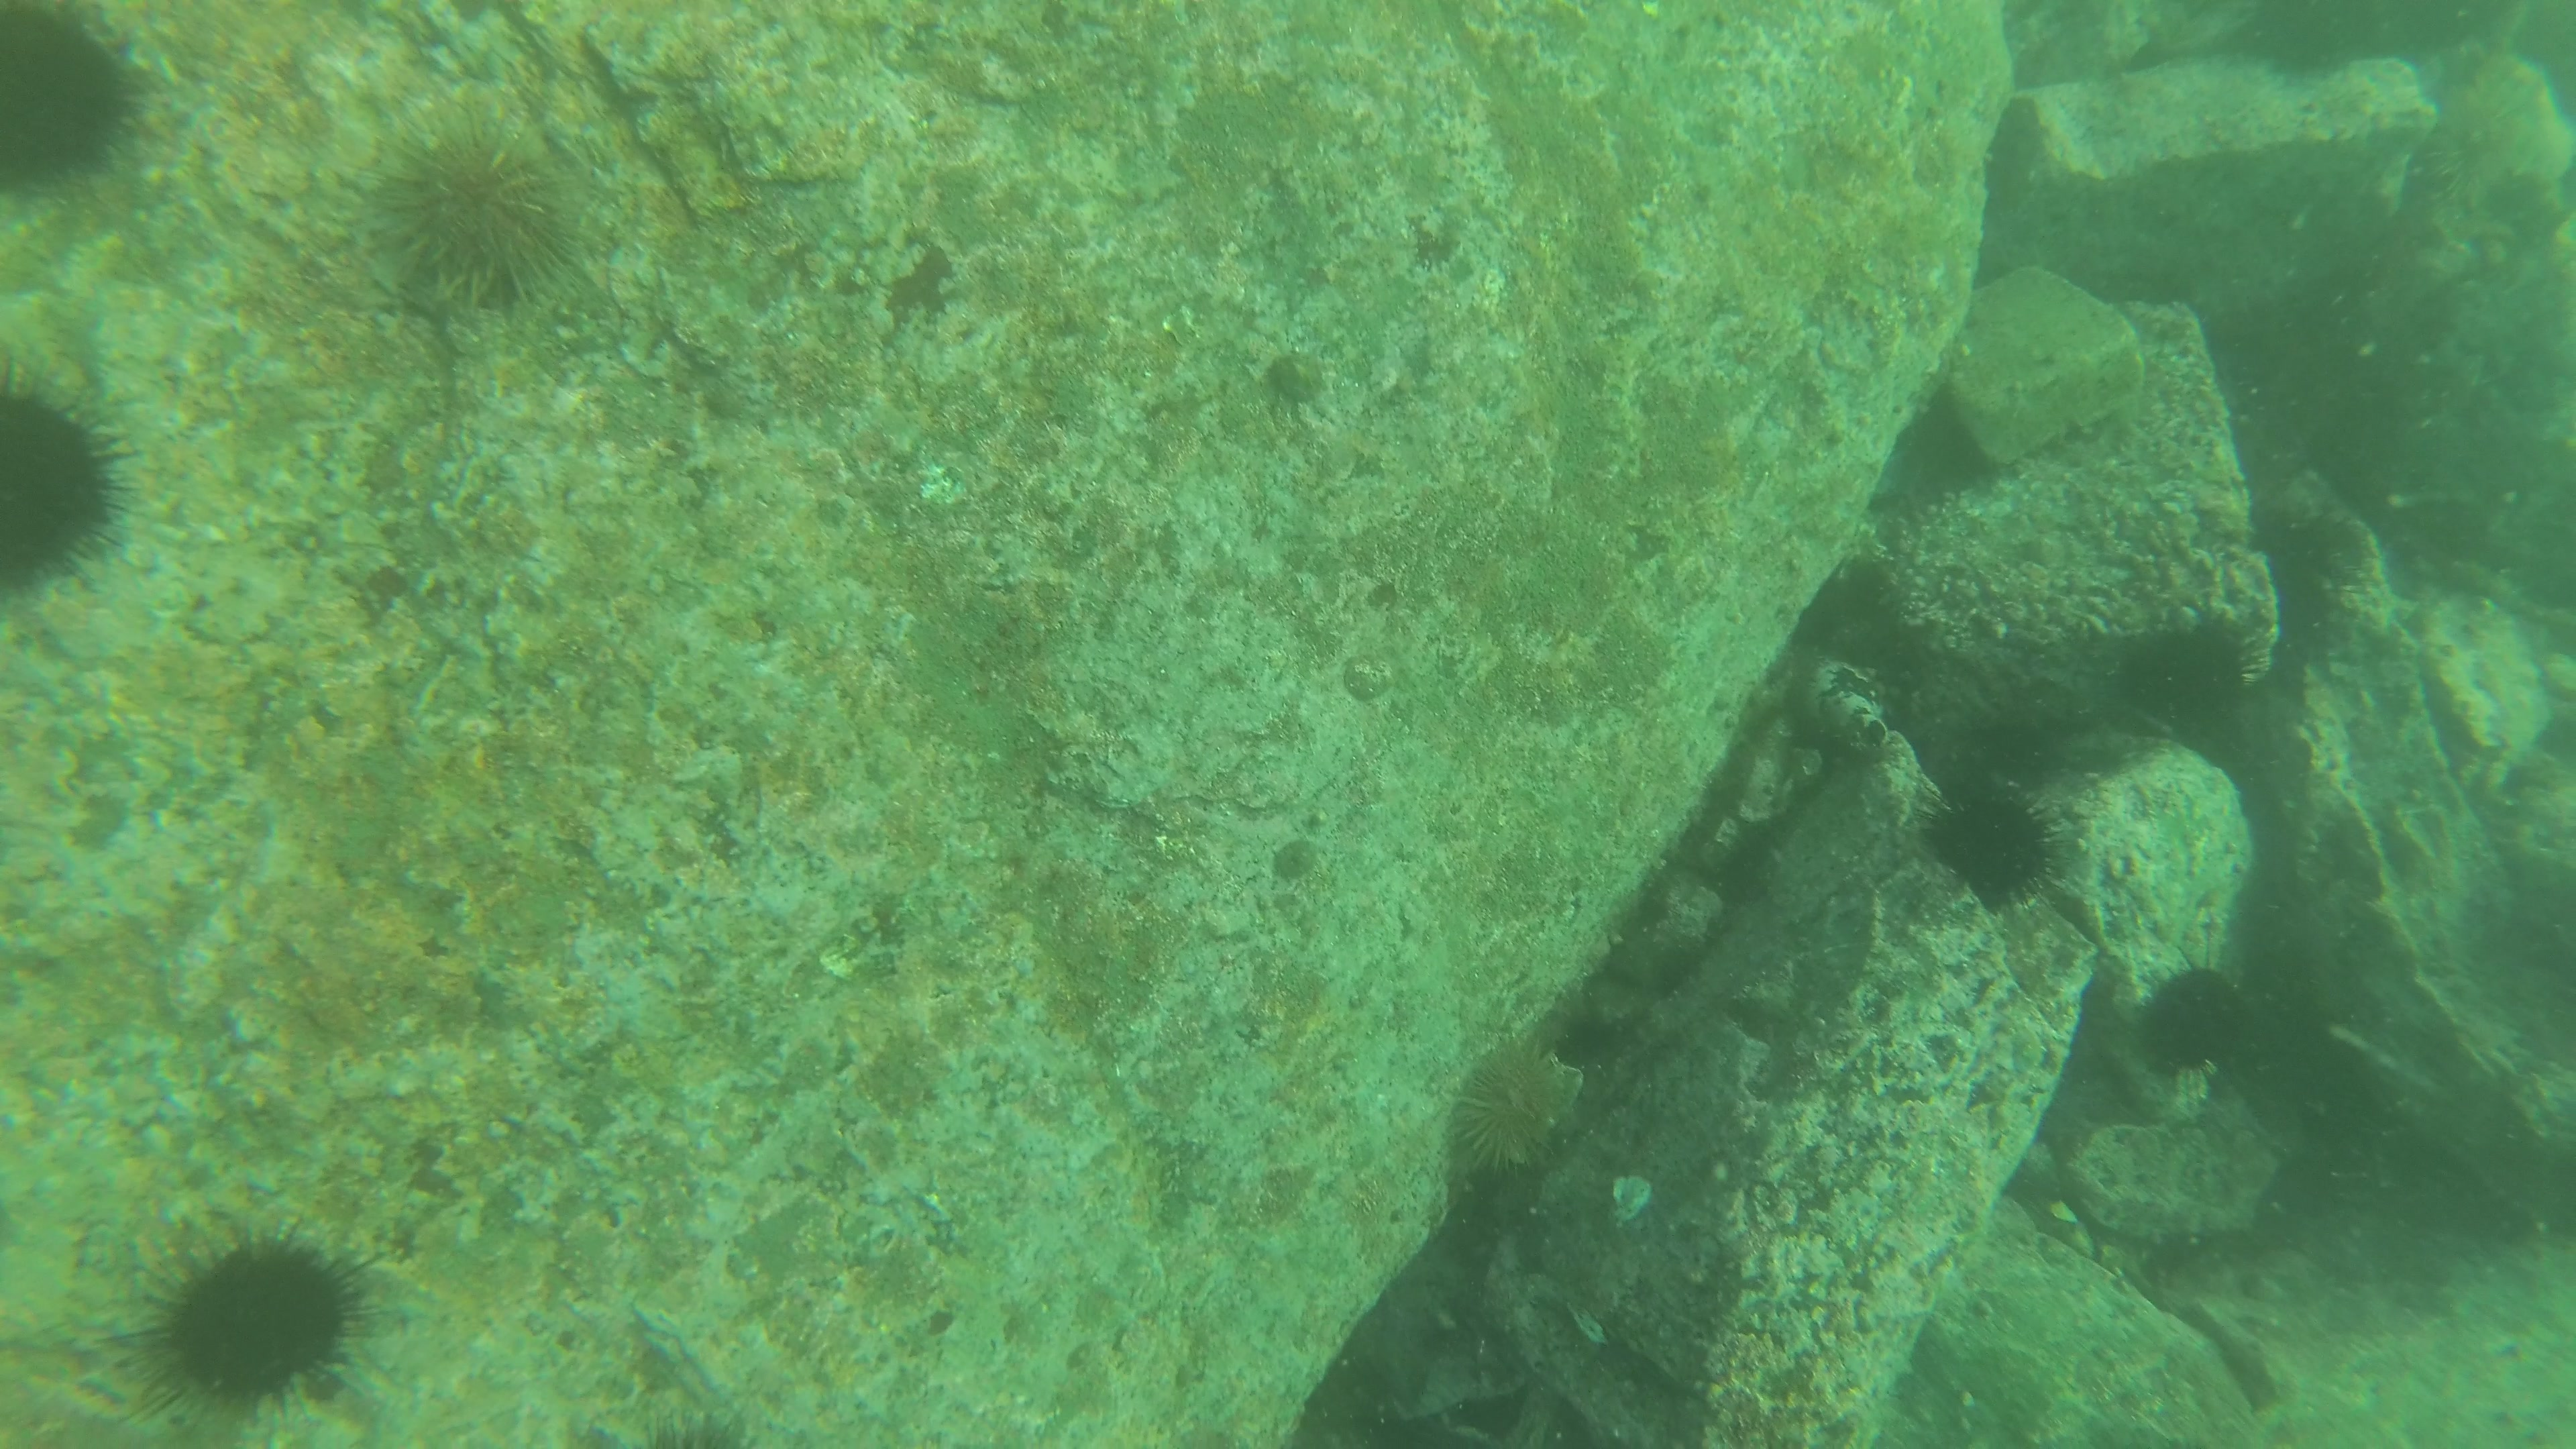echinus: (136, 1201, 347, 1417), (370, 108, 550, 313), (0, 380, 127, 594), (2, 9, 110, 189), (1927, 777, 2058, 904), (1465, 1035, 1571, 1187), (2139, 617, 2270, 717), (2148, 966, 2254, 1076)
